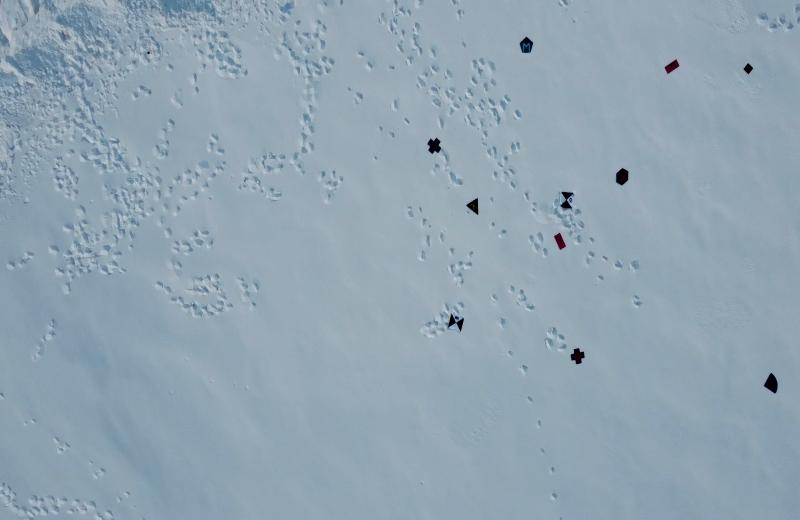Cross: (426, 138, 444, 156), (570, 347, 586, 365)
Hexagon: (614, 167, 630, 186)
Pentagon: (519, 36, 534, 55)
Quarter Circle: (762, 371, 780, 396)
Rectangle: (664, 59, 680, 73), (554, 232, 565, 250)
Square: (743, 62, 753, 75)
Triangle: (465, 197, 483, 216)
